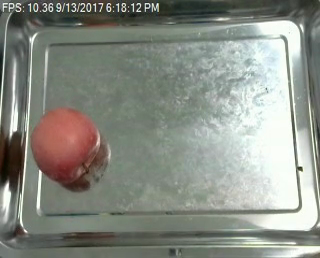Apple: (26, 106, 105, 187)
